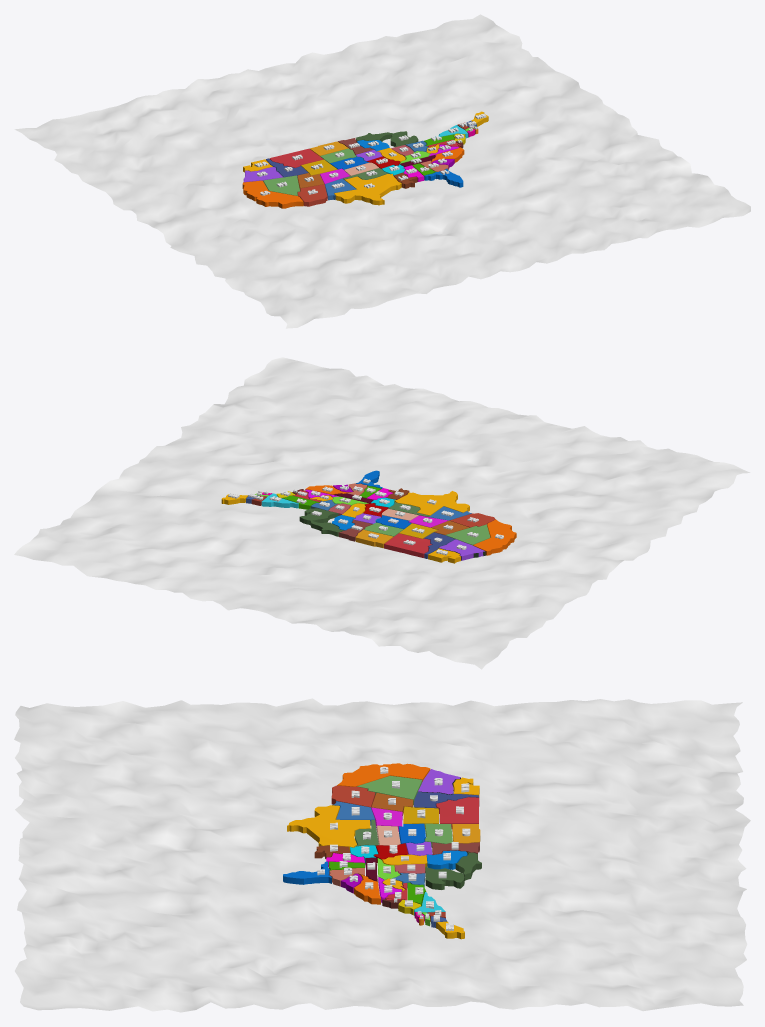
File: usa_map.fbx
3 views of the same model, one above another, from view 1: azimuth 30°, elevation 25°; view 2: azimuth 150°, elevation 25°; view 3: azimuth 270°, elevation 25° (orthographic). The views are drawn at different scales.
Parts seen in each view (by area): view 1: map_background, TX_TEXAS, CA_CALIFORNIA, MT_MONTANA, MI_MICHIGAN, NV_NEVADA; view 2: map_background, TX_TEXAS, CA_CALIFORNIA, MT_MONTANA, MI_MICHIGAN, NV_NEVADA, OR_OREGON; view 3: map_background, TX_TEXAS, CA_CALIFORNIA, MI_MICHIGAN, MT_MONTANA, NV_NEVADA, AZ_ARIZONA, OR_OREGON, FL_FLORIDA, WY_WYOMING, ID_IDAHO, NM_NEWMEXİCO (+5 smaller).
Part boxes in pixels (<box>): map_background: <box>14,14,750,328</box>; TX_TEXAS: <box>334,174,401,205</box>; CA_CALIFORNIA: <box>242,180,303,208</box>; MT_MONTANA: <box>269,148,323,167</box>; MI_MICHIGAN: <box>356,131,418,147</box>; NV_NEVADA: <box>263,175,300,195</box>; map_background: <box>14,357,750,669</box>; TX_TEXAS: <box>394,491,469,515</box>; CA_CALIFORNIA: <box>473,519,516,555</box>; MT_MONTANA: <box>384,533,431,557</box>; MI_MICHIGAN: <box>299,508,344,536</box>; NV_NEVADA: <box>445,524,490,545</box>; OR_OREGON: <box>439,539,485,560</box>; map_background: <box>14,698,750,1012</box>; TX_TEXAS: <box>287,805,370,850</box>; CA_CALIFORNIA: <box>337,763,430,786</box>; MI_MICHIGAN: <box>425,852,481,889</box>; MT_MONTANA: <box>436,797,479,828</box>; NV_NEVADA: <box>357,775,422,805</box>; AZ_ARIZONA: <box>331,785,375,807</box>; OR_OREGON: <box>418,769,460,794</box>; FL_FLORIDA: <box>283,861,331,884</box>; WY_WYOMING: <box>403,806,438,828</box>; ID_IDAHO: <box>414,792,479,808</box>; NM_NEWMEXİCO: <box>332,801,375,825</box>.
Bounding box in the file's own units: 274 × 5.97 × 273.
2 materials, 1 textured.
